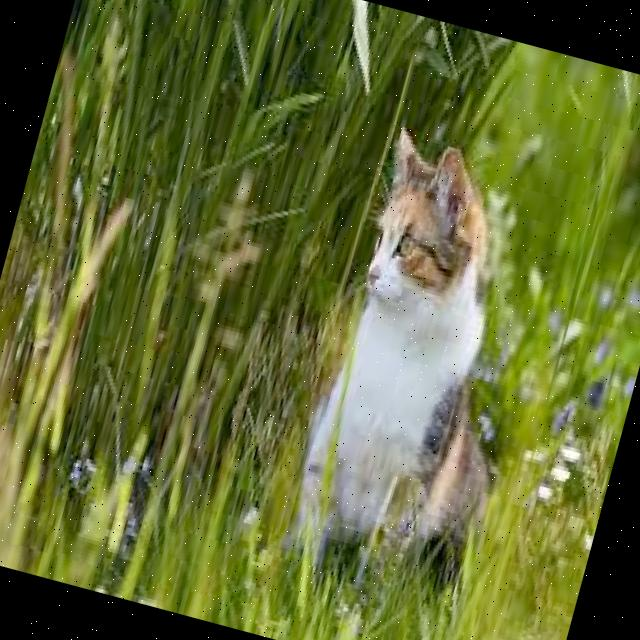cat: (286, 129, 493, 584)
